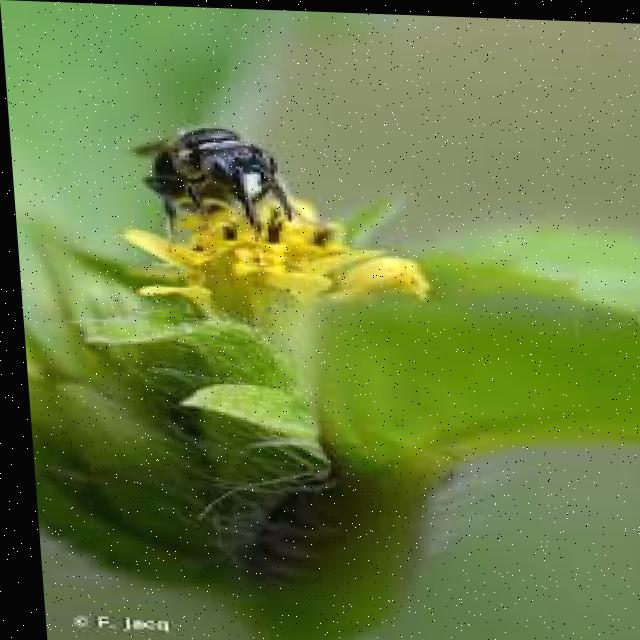Braunsapis: (106, 103, 335, 260)
